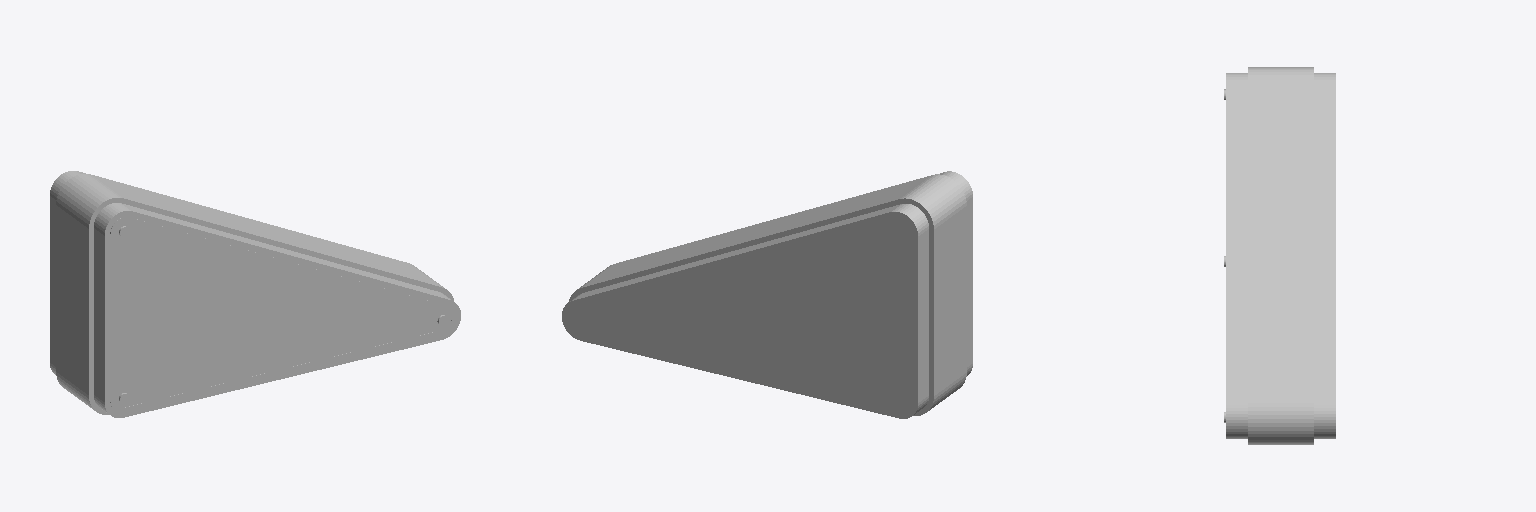
The model's file is TriangulatBumper.obj.
3 views of the same model, side by side, from view 1: azimuth 30°, elevation 25°; view 2: azimuth 150°, elevation 25°; view 3: azimuth 270°, elevation 25° (orthographic).
Visible parts, largest first — view 1: Body1; view 2: Body1; view 3: Body1.
Boxes of the visible parts, box(x1,y1,x2,y2) form: Body1: box(50, 171, 460, 417); Body1: box(562, 171, 972, 418); Body1: box(1224, 67, 1335, 444).
Size of the model in its own units: 19.25 by 10.87 by 5.1.